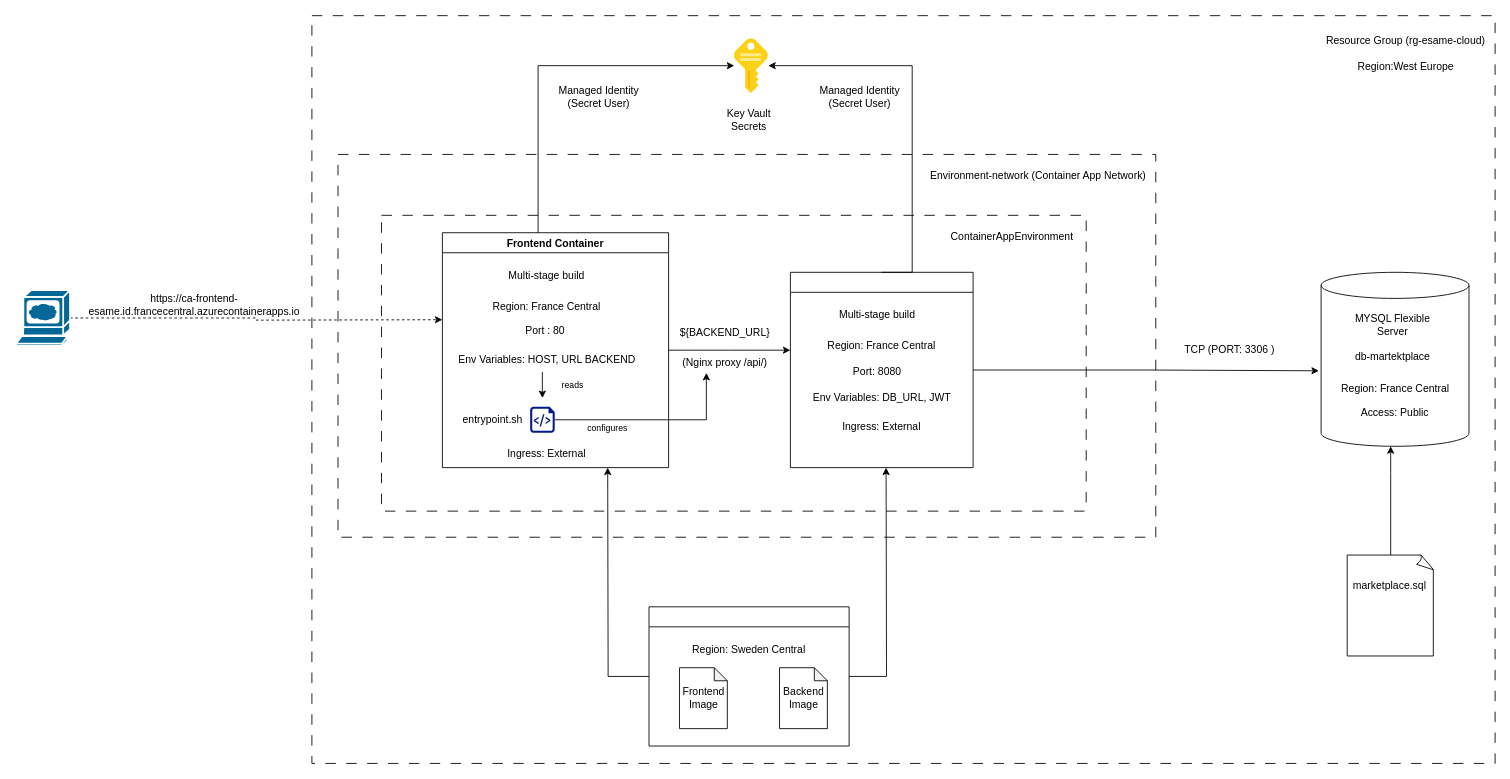
The diagram is 1510 pixels wide and 779 high, and some of its shapes have lost their labels. The shapes that lost their labels are listed below. From the top down, each one's box as (x1, y1, x2, y2) in pixels, then its label:
(790, 271, 973, 468): Backend Container
(648, 606, 849, 746): ACR (Container Registry)
